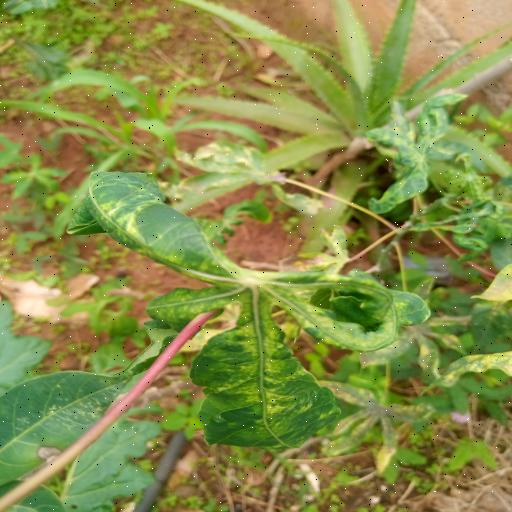Cassava_Mosaic: (55, 169, 442, 454)
